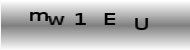1: (73, 12, 86, 25)
E: (103, 12, 116, 26)
U: (133, 17, 148, 31)
m: (28, 11, 48, 22)
w: (47, 15, 64, 26)
